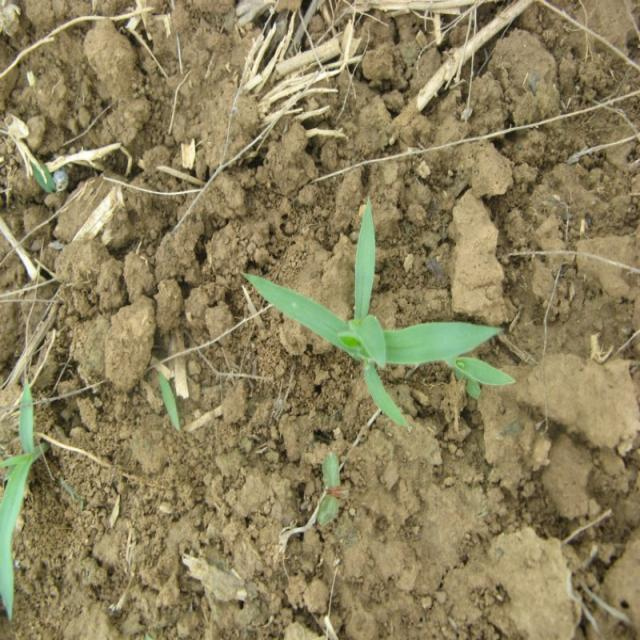bg: (245, 199, 510, 416)
